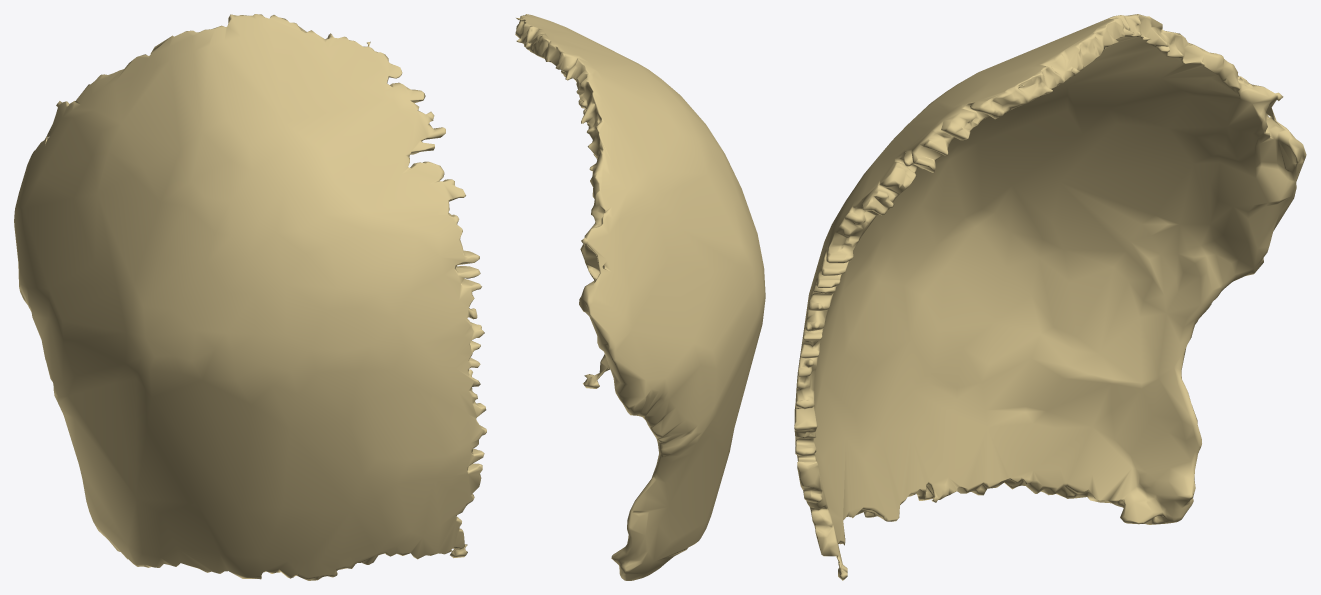
3 renders of one model, left to right at view 1: azimuth 30°, elevation 25°; view 2: azimuth 150°, elevation 25°; view 3: azimuth 270°, elevation 25°, orthographic. The views are drawn at different scales.
Visible parts, largest first — view 1: 右侧顶骨; view 2: 右侧顶骨; view 3: 右侧顶骨.
Part boxes in pixels (x1,y1,x2,y2): 右侧顶骨: (14,14,486,580); 右侧顶骨: (515,14,765,580); 右侧顶骨: (794,14,1306,580).
Bounding box in the file's own units: 0.1179 × 0.2053 × 0.1704.
